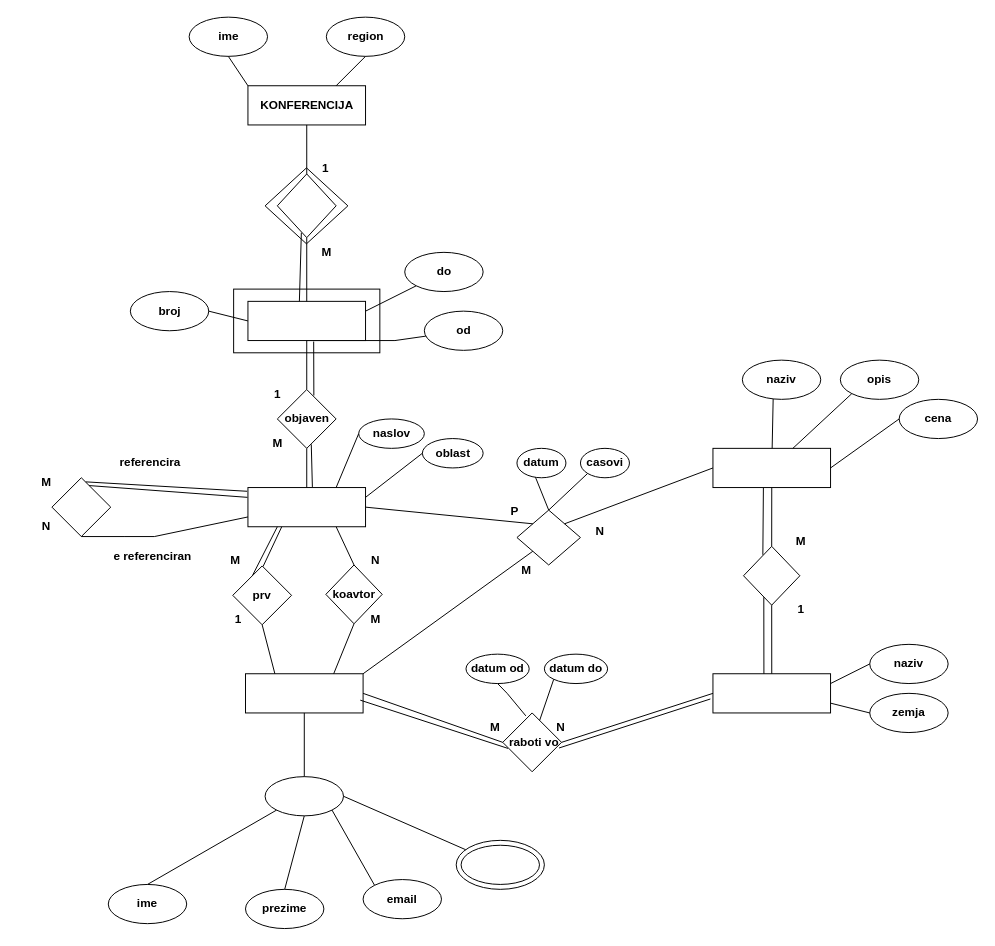
The diagram is 995 pixels wide and 946 high, and some of its shapes have lost their labels. The centre of each missing label's shape, as x and y in pixels:
"ima" goes at point (306, 205).
"ISTITUCIJA" goes at point (771, 693).
"kontakt" goes at point (303, 796).
"LABORATORIJA" goes at point (771, 467).
"NAUCNIK" goes at point (304, 693).
"ODDRZUVANJE" goes at point (306, 320).
"telefon" goes at point (499, 864).
"testiranje" goes at point (548, 537).
"TRUD" goes at point (306, 507).
